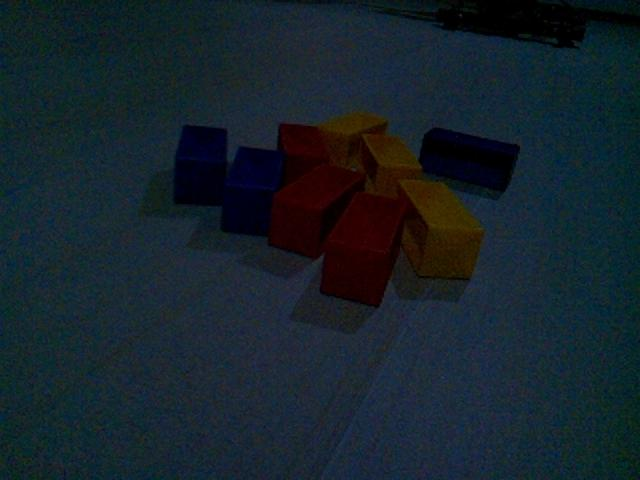blue: (417, 124, 522, 198), (220, 144, 285, 237), (172, 122, 229, 207)
red: (319, 190, 410, 308), (267, 162, 367, 260), (277, 121, 330, 187)
yellow: (397, 177, 486, 282), (317, 109, 389, 171), (360, 131, 423, 198)
